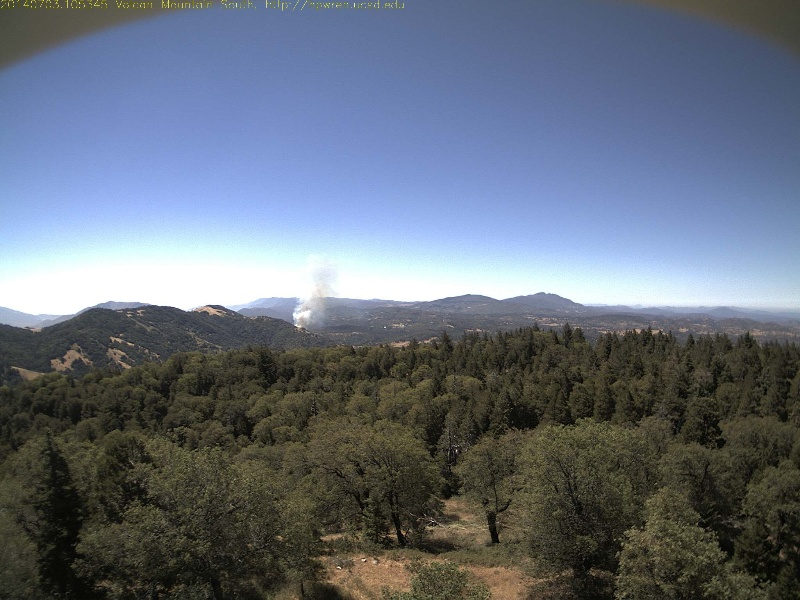smoke: (296, 265, 328, 330)
